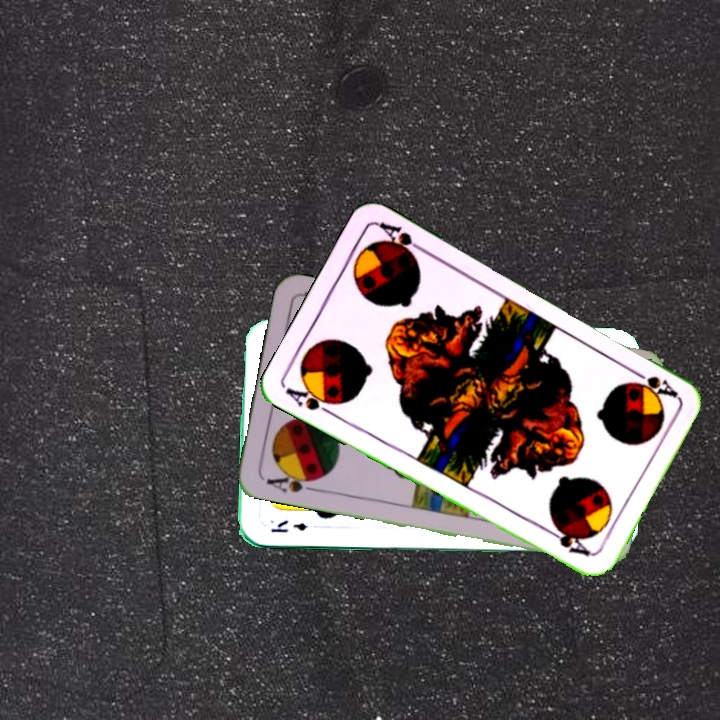EK: (266, 516, 309, 535)
SA: (282, 382, 342, 419), (625, 364, 680, 400), (262, 467, 321, 495)
